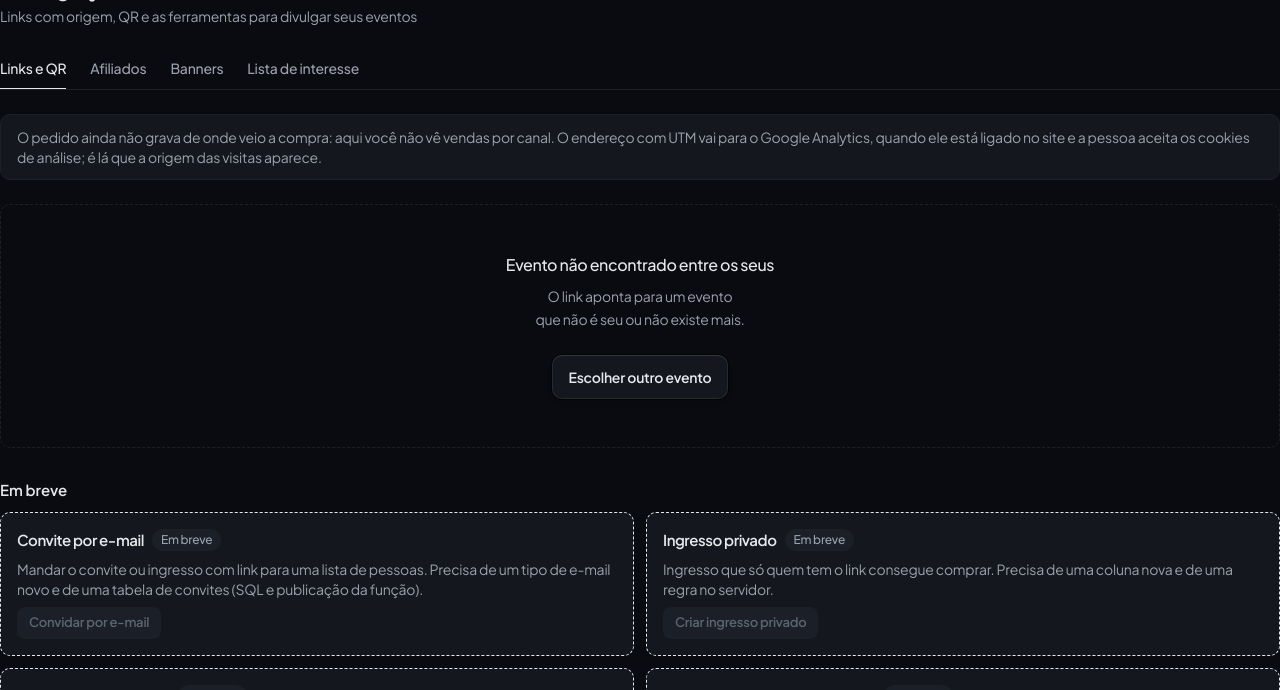
it: Divulgação: Links e QR › ?eventId= de outro produtor é recusado e não monta link
Check: the text "Evento não encontrado entre os seus" is shown, box [506,253,774,277]
Click the button "Escolher outro evento".
click(640, 376)  # box [552,354,728,398]
(page scrolled)
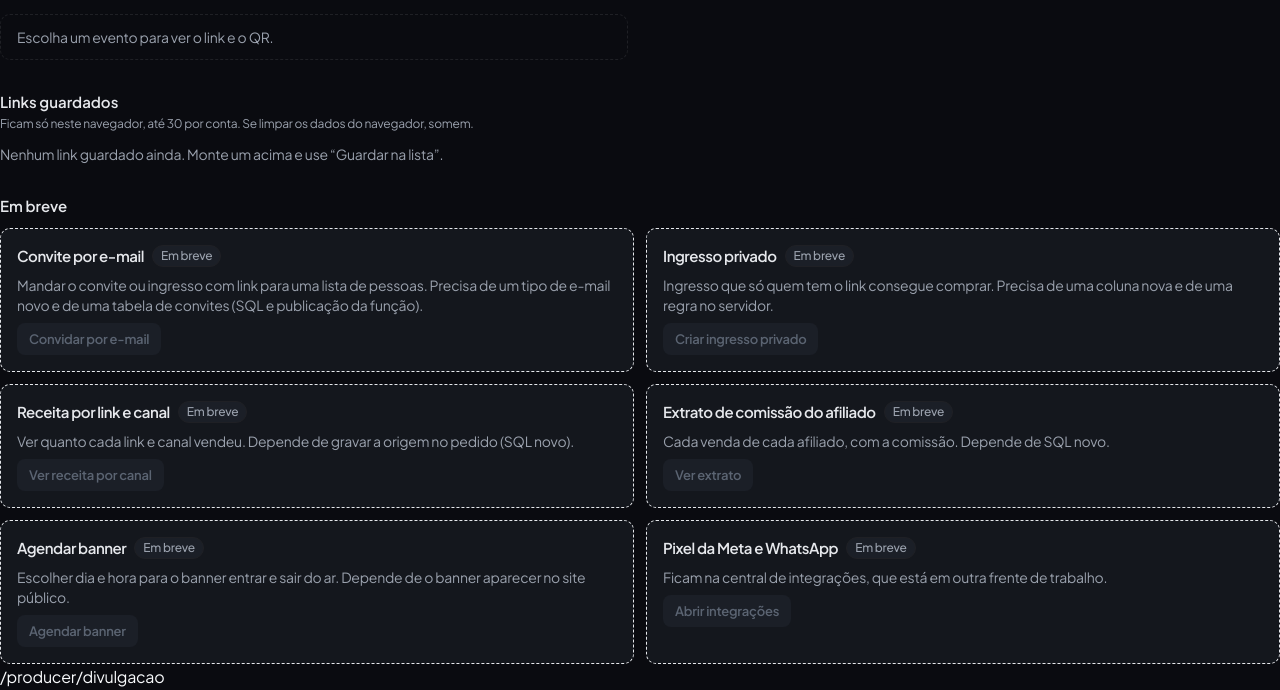
Check: the text with test id "url" reads "/producer/divulgacao", box [0,666,164,687]
